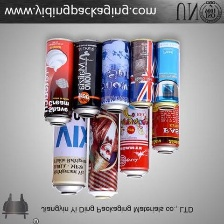aerosol_cans: (49, 68, 88, 198), (86, 71, 119, 201), (116, 62, 151, 180), (148, 56, 182, 155)
can: (40, 37, 80, 127), (71, 37, 107, 120), (97, 37, 131, 116), (150, 36, 184, 112), (126, 37, 156, 112)
